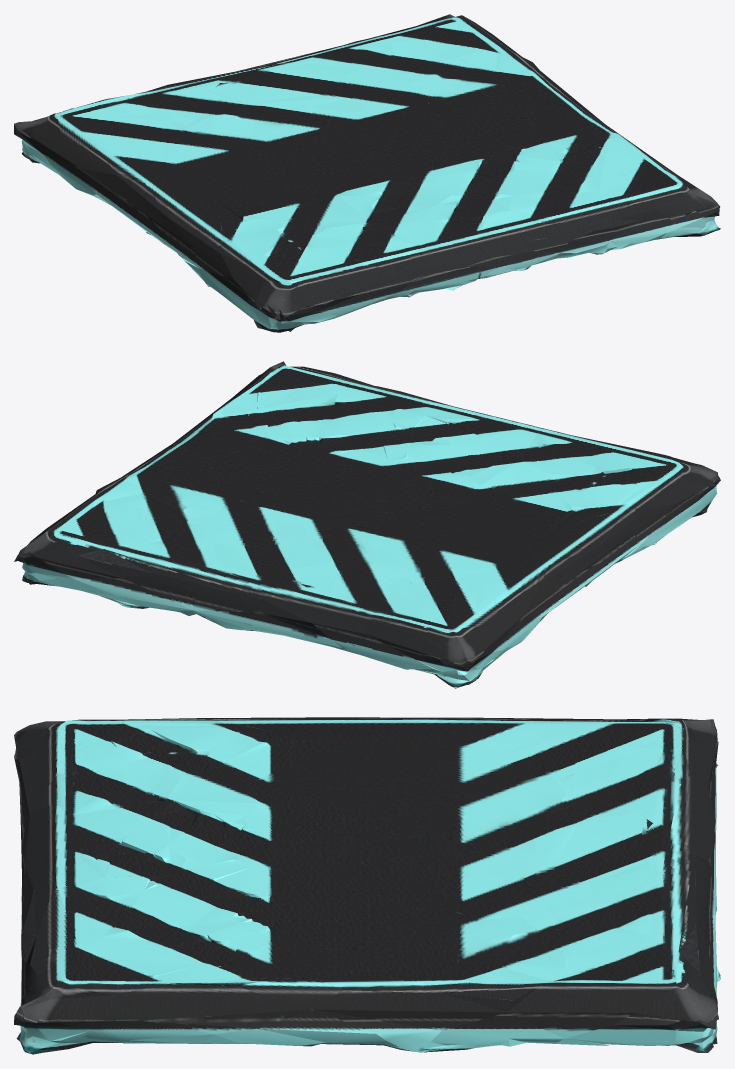
The model's file is jump-pad.glb.
The picture shows the model from 3 angles, top to bottom: view 1: azimuth 30°, elevation 25°; view 2: azimuth 150°, elevation 25°; view 3: azimuth 270°, elevation 25°; orthographic projection. The views are drawn at different scales.
Parts seen in each view (by area): view 1: output_unwrapped; view 2: output_unwrapped; view 3: output_unwrapped.
Part boxes in pixels (x1,y1,x2,y2): output_unwrapped: (14, 14, 720, 332); output_unwrapped: (14, 361, 720, 688); output_unwrapped: (14, 717, 720, 1054).
Bounding box in the file's own units: 1.88 × 0.1769 × 1.87.
Materials: 1 (1 with a texture image).
